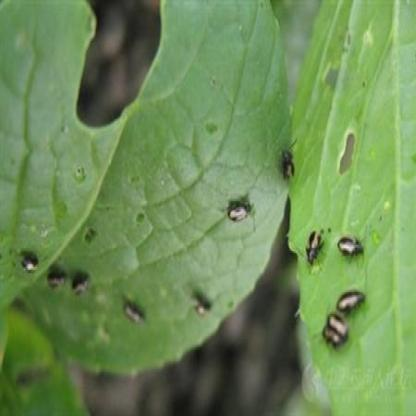beetle: (337, 286, 370, 319), (327, 309, 356, 345), (278, 144, 302, 187), (226, 197, 254, 226), (304, 223, 322, 268), (337, 236, 366, 262), (122, 297, 146, 328), (319, 322, 342, 350), (48, 264, 67, 292), (71, 271, 89, 300), (20, 249, 40, 274)
